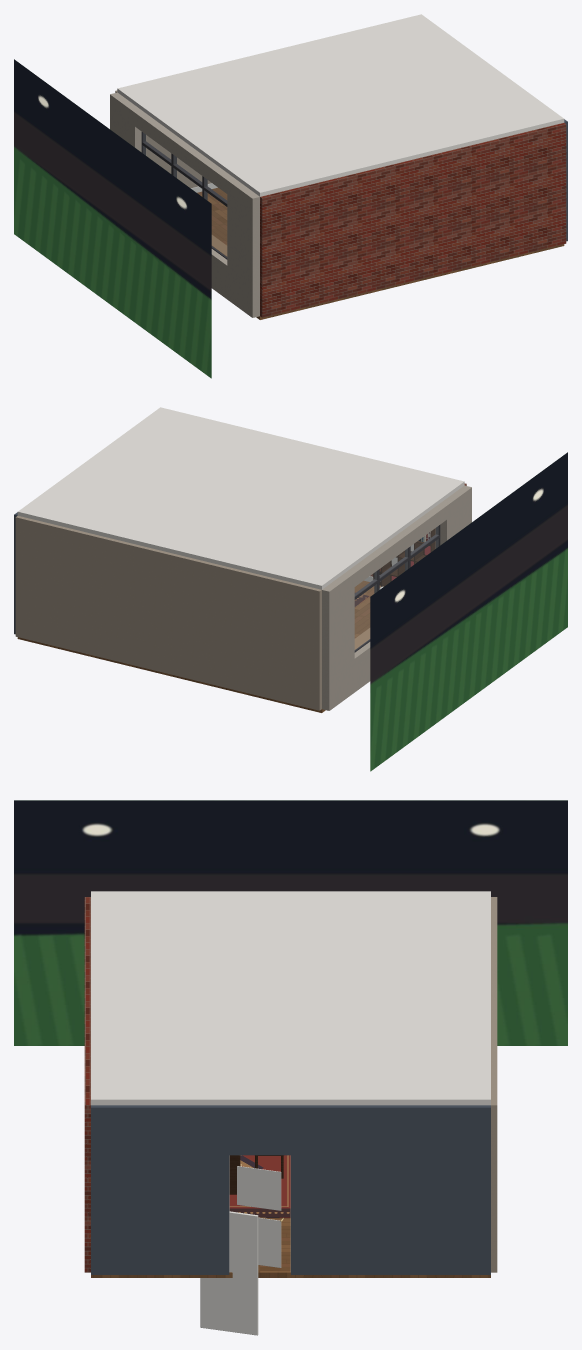
Rendered from office.glb.
3 views of the same model, one above another, from view 1: azimuth 30°, elevation 25°; view 2: azimuth 150°, elevation 25°; view 3: azimuth 270°, elevation 25° (orthographic). The views are drawn at different scales.
Visible parts, largest first — view 1: static_Ceiling, static_Brick, window_view, static_Plaster, static_Glass, static_FloorOak, static_SteelBlack, static_PlasterWarm; view 2: static_Ceiling, static_PlasterWarm, window_view, static_Plaster, static_Glass, static_FloorOak, static_SteelBlack, static_DarkOak; view 3: static_Ceiling, window_view, static_PaintDark, door, static_Brick, static_PlasterWarm, static_FloorOak, static_Rug.
Part boxes in pixels (x1,y1,x2,y2): static_Ceiling: (117,14,564,196); static_Brick: (260,123,566,317); window_view: (14,59,211,378); static_Plaster: (110,92,259,317); static_Glass: (143,133,226,256); static_FloorOak: (197,187,564,319); static_SteelBlack: (141,132,227,259); static_PlasterWarm: (115,90,211,188); static_Ceiling: (17,407,464,589); static_PlasterWarm: (15,516,321,710); window_view: (370,452,567,771); static_Plaster: (322,485,471,710); static_Glass: (355,526,438,649); static_FloorOak: (17,580,380,712); static_SteelBlack: (354,525,440,652); static_DarkOak: (381,528,435,586); static_Ceiling: (91,891,490,1105); window_view: (14,800,567,1045); static_PaintDark: (91,1105,490,1274); door: (200,1166,281,1335); static_Brick: (84,897,90,1272); static_PlasterWarm: (491,897,497,1272); static_FloorOak: (91,1218,490,1277); static_Rug: (229,1155,290,1217).
Size of the model in its own units: 10.23 by 4.87 by 9.
Materials: 51 (17 with a texture image).
